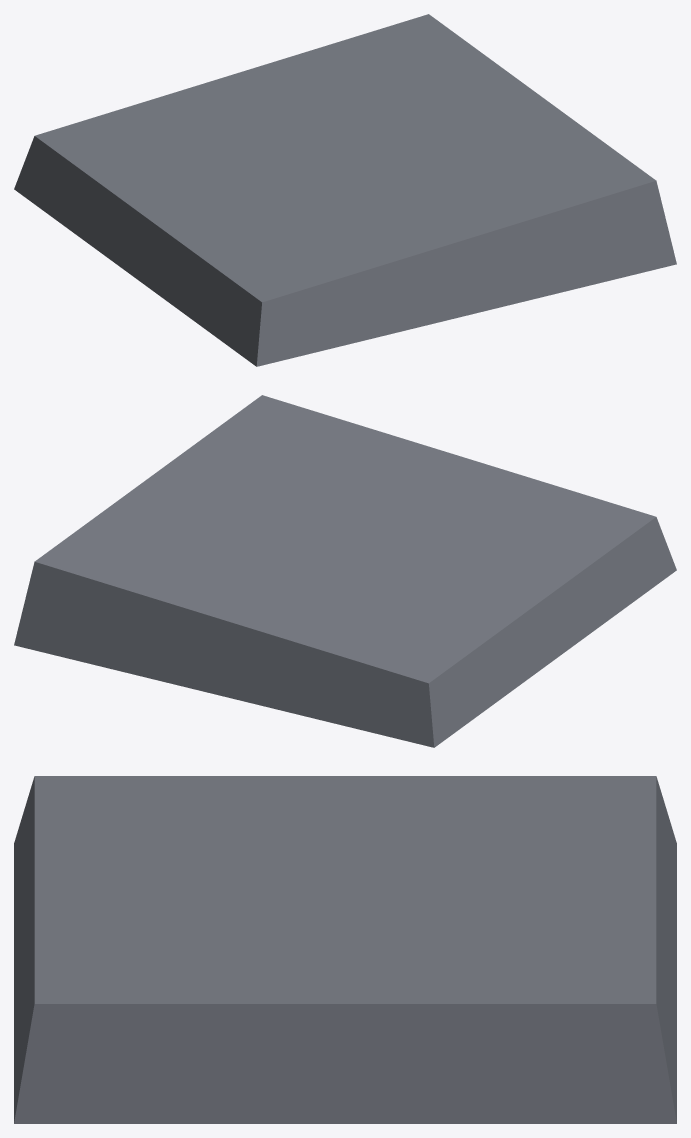
Rendered from Rock_Tile_m_02.fbx.
3 renders of one model, top to bottom at view 1: azimuth 30°, elevation 25°; view 2: azimuth 150°, elevation 25°; view 3: azimuth 270°, elevation 25°, orthographic. The views are drawn at different scales.
Parts seen in each view (by area): view 1: Rock_Tile_m_02; view 2: Rock_Tile_m_02; view 3: Rock_Tile_m_02.
Boxes of the visible parts, x1,y1,x2,y2 form: Rock_Tile_m_02: (14, 14, 676, 366); Rock_Tile_m_02: (14, 395, 676, 747); Rock_Tile_m_02: (14, 776, 676, 1123).
Size of the model in its own units: 40 by 7.4 by 40.
